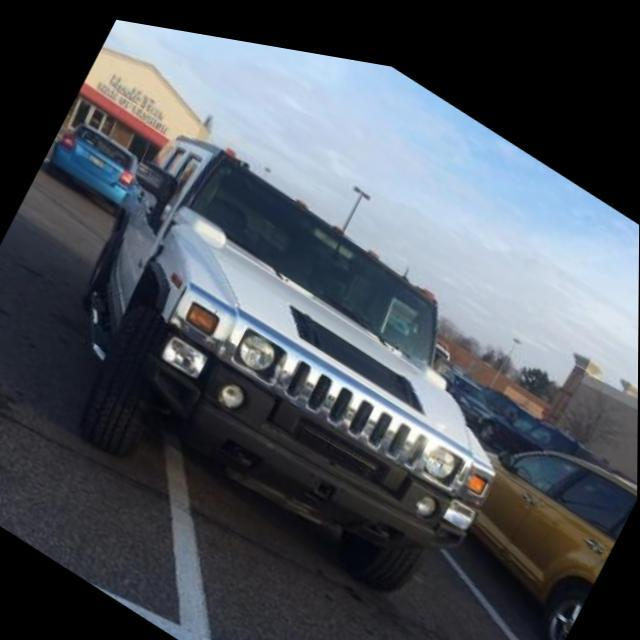license_plate: (88, 150, 105, 166)
